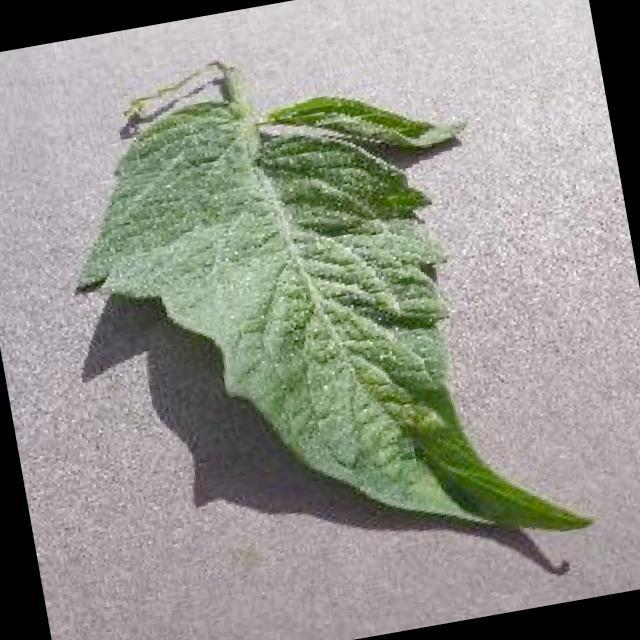Tomato spider mites leaf: (46, 45, 594, 612)
